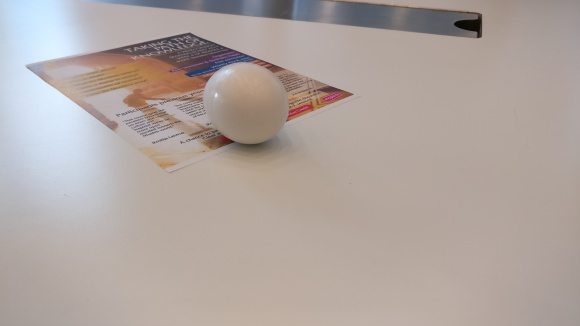egg: (202, 62, 289, 145)
